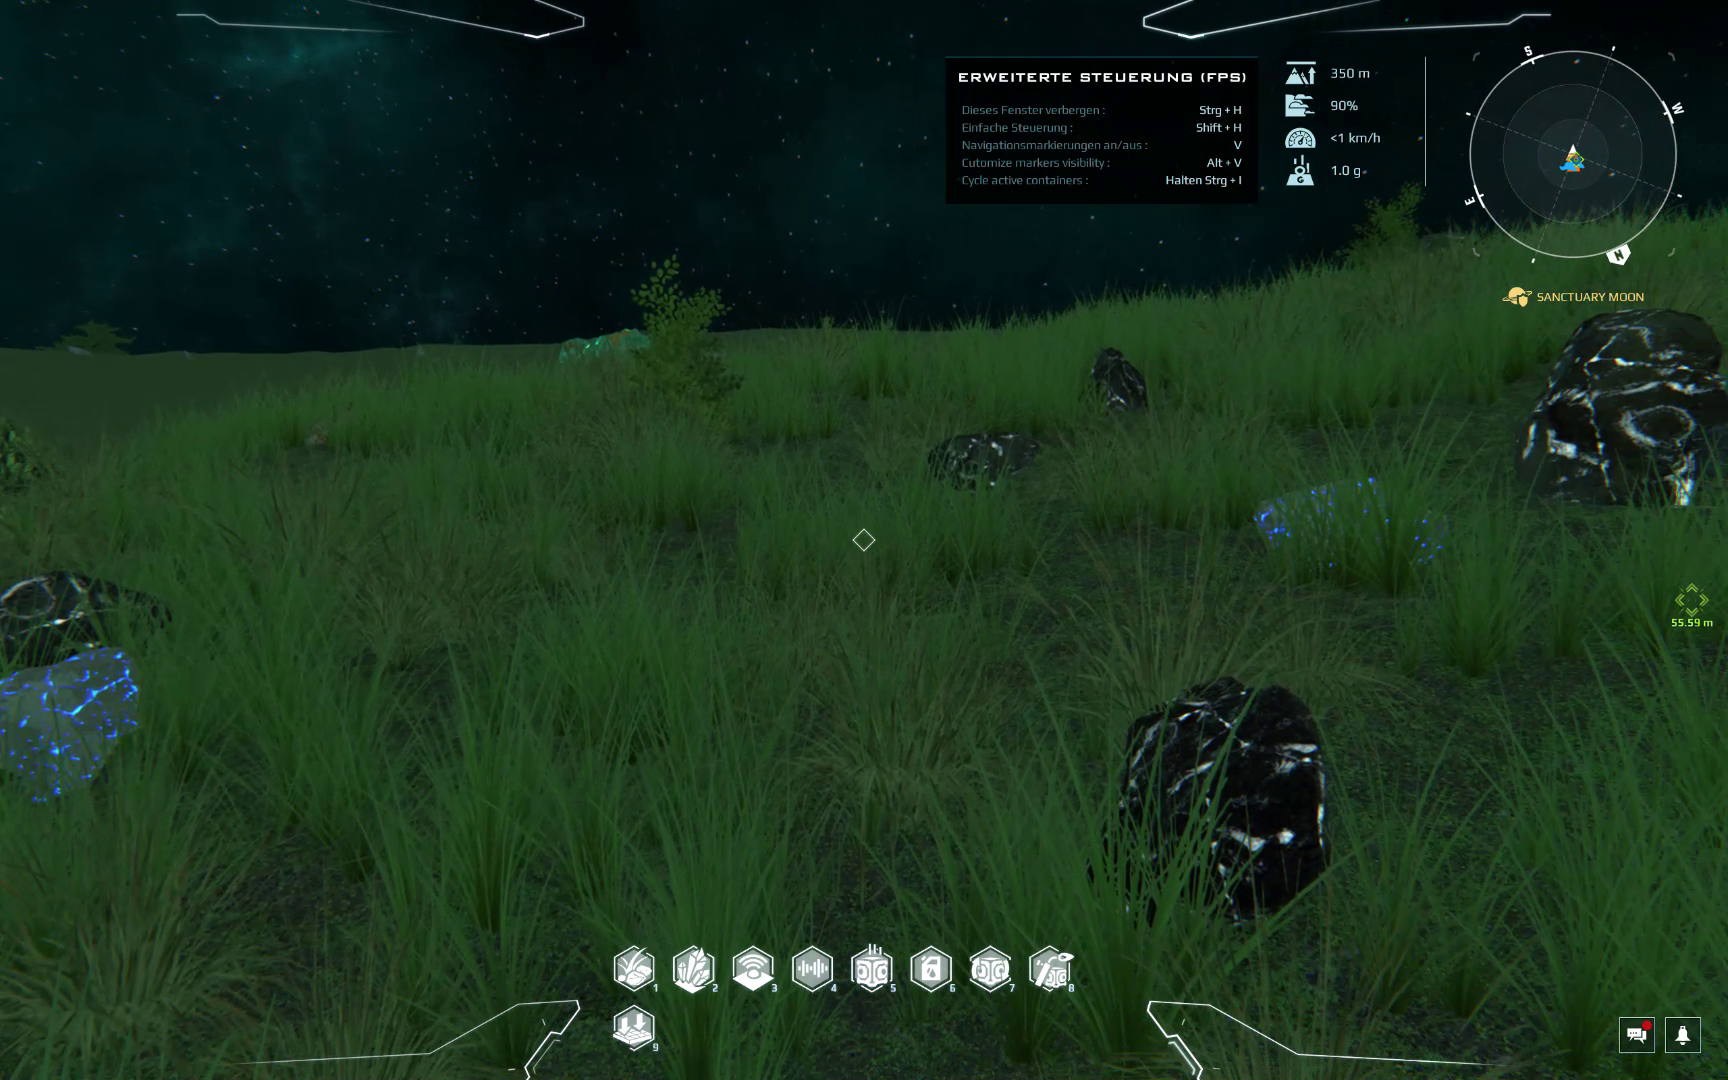Ore: (1113, 668, 1335, 908), (1513, 306, 1728, 513), (1250, 474, 1453, 586), (7, 646, 147, 796), (9, 569, 174, 661), (923, 426, 1046, 486), (554, 321, 654, 367), (1089, 346, 1150, 414)
